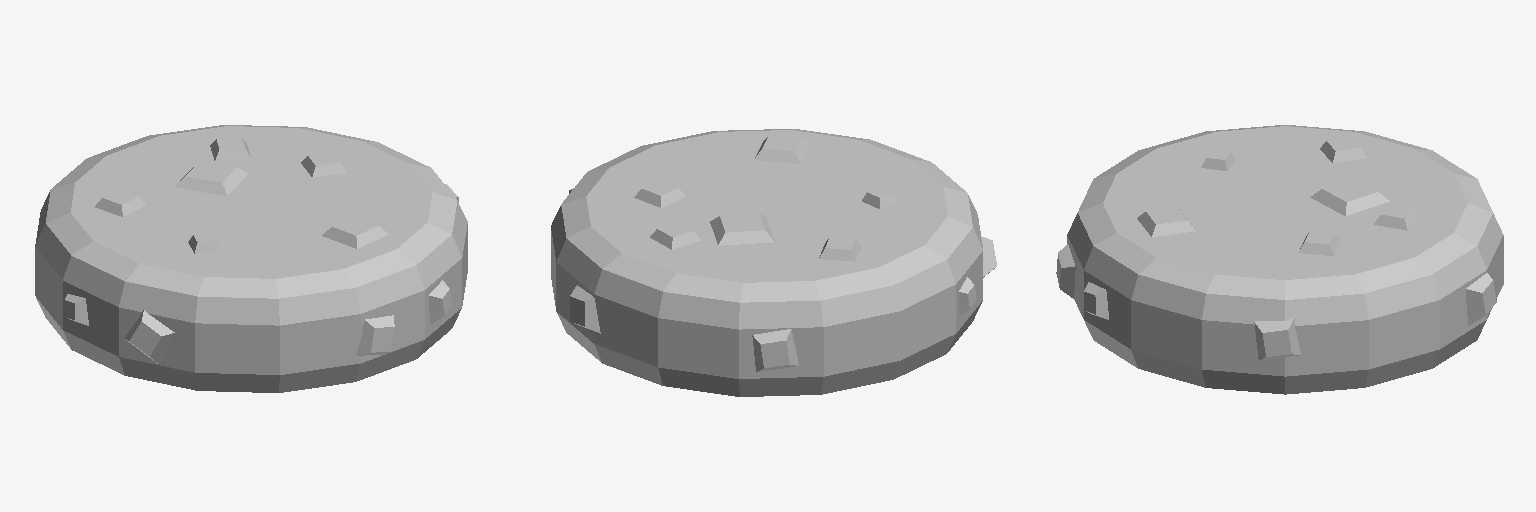
The model's file is food_ingredient_vegetableburger_uncooked.obj.
The picture shows the model from 3 angles: view 1: azimuth 30°, elevation 25°; view 2: azimuth 150°, elevation 25°; view 3: azimuth 270°, elevation 25°; orthographic projection.
Visible parts, largest first — view 1: food_ingredient_vegetableburger_uncooked_Cylinder.178; view 2: food_ingredient_vegetableburger_uncooked_Cylinder.178; view 3: food_ingredient_vegetableburger_uncooked_Cylinder.178.
Boxes of the visible parts, <box> form: food_ingredient_vegetableburger_uncooked_Cylinder.178: <box>35,125,467,392</box>; food_ingredient_vegetableburger_uncooked_Cylinder.178: <box>551,129,996,396</box>; food_ingredient_vegetableburger_uncooked_Cylinder.178: <box>1056,125,1503,394</box>.
Bounding box in the file's own units: 0.728 × 0.216 × 0.7173.